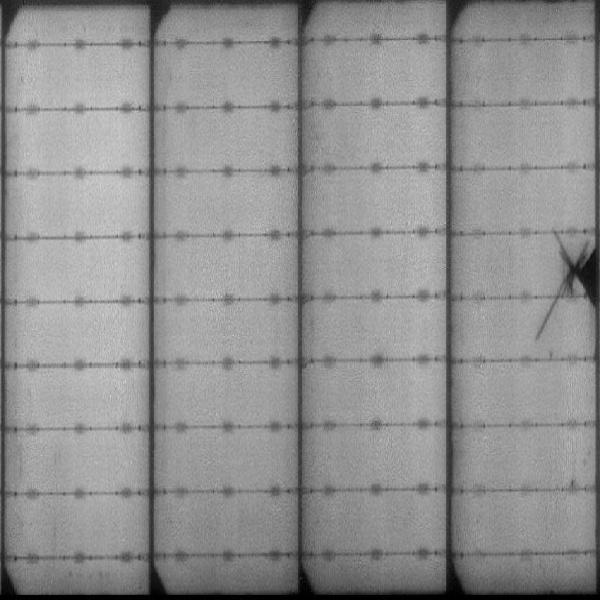broken: (534, 235, 598, 341)
